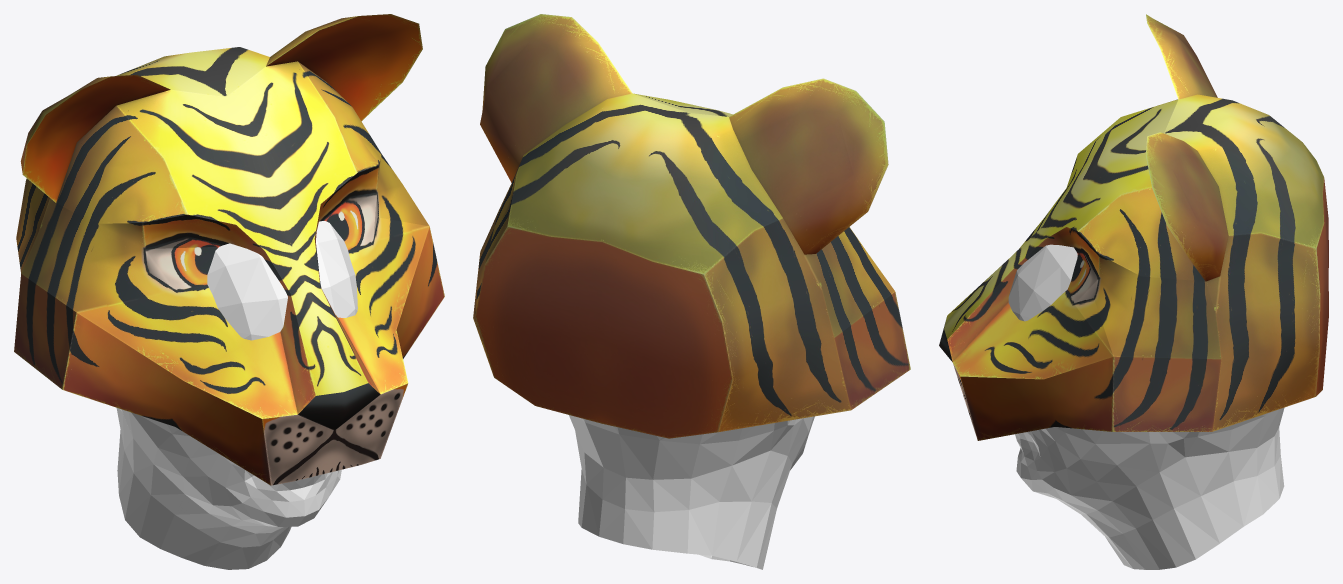
Rendered from tiger.gltf.
3 renders of one model, left to right at view 1: azimuth 30°, elevation 25°; view 2: azimuth 150°, elevation 25°; view 3: azimuth 270°, elevation 25°, orthographic. The views are drawn at different scales.
Visible parts, largest first — view 1: Tiger_Mask, hea.002; view 2: Tiger_Mask, hea.002; view 3: Tiger_Mask, hea.002.
Boxes of the visible parts, x1,y1,x2,y2 form: Tiger_Mask: (14,14,444,485); hea.002: (116,221,357,569); Tiger_Mask: (473,14,910,438); hea.002: (569,415,814,569); Tiger_Mask: (939,14,1328,440); hea.002: (1008,244,1284,569).
Size of the model in its own units: 363 by 448 by 330.
Materials: 2 (1 with a texture image).
